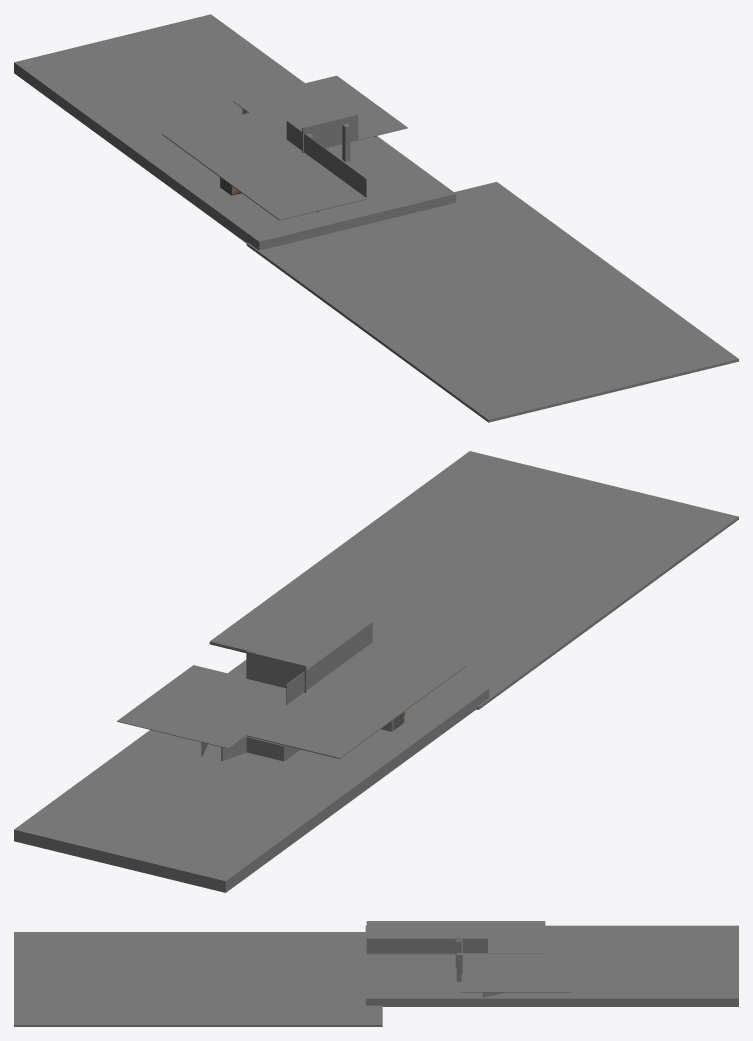
Rendered from Room2.obj.
The picture shows the model from 3 angles, top to bottom: view 1: azimuth 30°, elevation 25°; view 2: azimuth 150°, elevation 25°; view 3: azimuth 270°, elevation 25°; orthographic projection. The views are drawn at different scales.
Parts seen in each view (by area): view 1: pCube86, pCube5, pCube97, pCube156, pCube158, pCube159; view 2: pCube86, pCube5, pCube97, pCube156, pCube158, pCube159; view 3: pCube86, pCube5, pCube156, pCube97, pCube158.
Boxes of the visible parts, <box> form: pCube86: <box>246,182,738,422</box>; pCube5: <box>14,14,456,250</box>; pCube97: <box>162,112,366,220</box>; pCube156: <box>233,75,407,150</box>; pCube158: <box>286,120,366,197</box>; pCube159: <box>302,114,358,152</box>; pCube86: <box>209,451,738,709</box>; pCube5: <box>14,636,489,892</box>; pCube97: <box>246,643,465,758</box>; pCube156: <box>117,665,301,748</box>; pCube158: <box>286,622,372,704</box>; pCube159: <box>246,651,306,692</box>; pCube86: <box>14,932,382,1026</box>; pCube5: <box>365,925,738,1006</box>; pCube156: <box>461,953,570,992</box>; pCube97: <box>366,921,545,954</box>; pCube158: <box>366,938,487,952</box>.
Bounding box in the file's own units: 78.67 × 15.91 × 259.
Materials: 3 (2 with a texture image).
